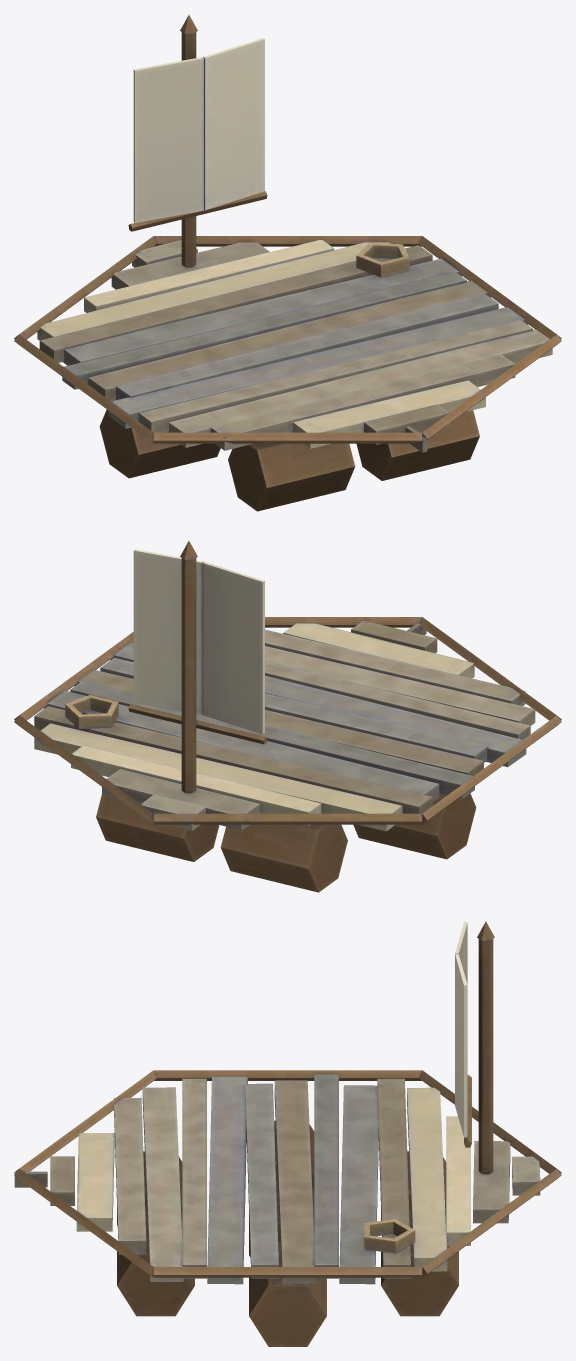
Rendered from raft-a-age1-lite.glb.
3 renders of one model, top to bottom at view 1: azimuth 30°, elevation 25°; view 2: azimuth 150°, elevation 25°; view 3: azimuth 270°, elevation 25°, orthographic.
Visible parts, largest first — view 1: raft-a-age1-lite; view 2: raft-a-age1-lite; view 3: raft-a-age1-lite.
Boxes of the visible parts, x1,y1,x2,y2 form: raft-a-age1-lite: [14, 15, 561, 511]; raft-a-age1-lite: [14, 541, 561, 892]; raft-a-age1-lite: [14, 921, 561, 1346].
Bounding box in the file's own units: 1.59 × 1.26 × 1.83.
Materials: 1 (1 with a texture image).
